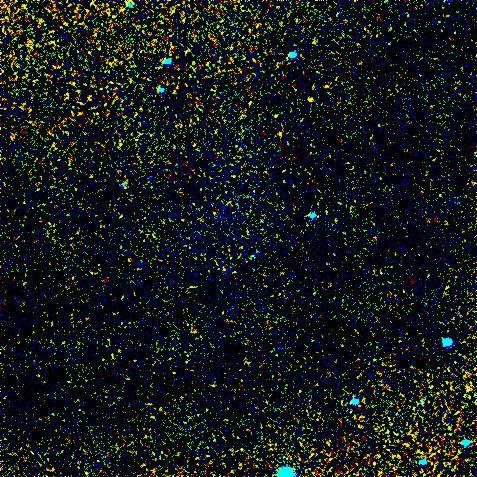star: (298, 92, 328, 122)
